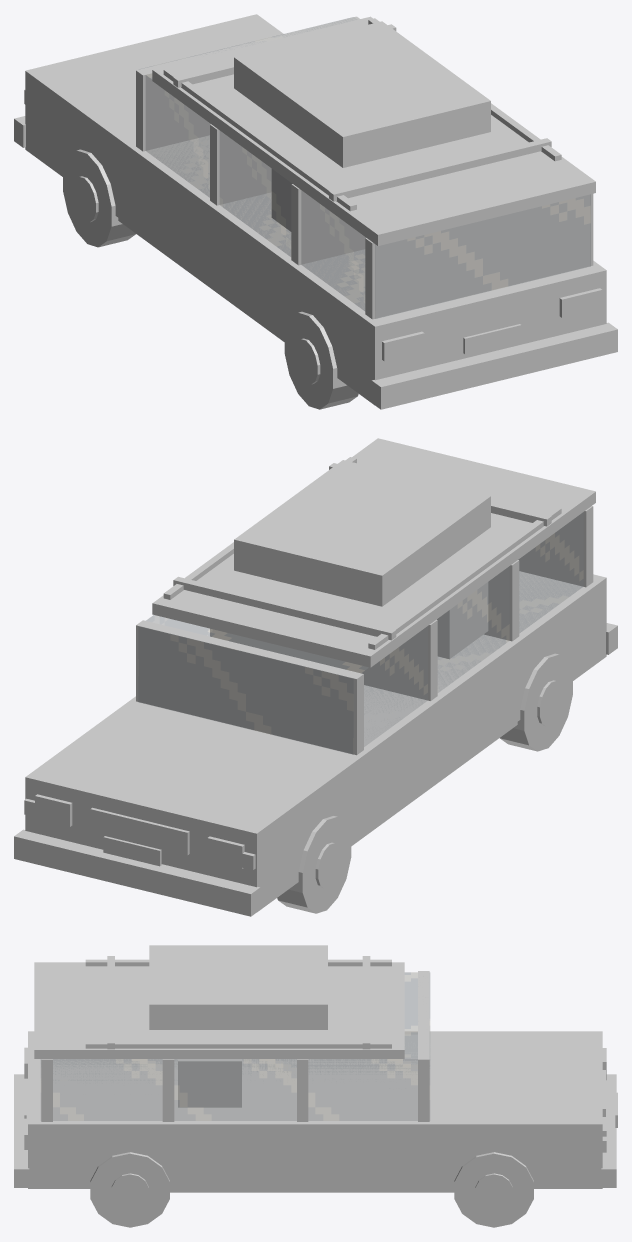
Rendered from car_c_sb_cream.glb.
3 views of the same model, one above another, from view 1: azimuth 30°, elevation 25°; view 2: azimuth 150°, elevation 25°; view 3: azimuth 270°, elevation 25° (orthographic). The views are drawn at different scales.
Visible parts, largest first — view 1: gas_station_town; view 2: gas_station_town; view 3: gas_station_town.
Part boxes in pixels (bbox=[...]): gas_station_town: bbox=[14, 14, 617, 409]; gas_station_town: bbox=[14, 438, 617, 916]; gas_station_town: bbox=[14, 945, 617, 1227].
Bounding box in the file's own units: 1.82 × 1.77 × 4.73.
2 materials, 1 textured.
